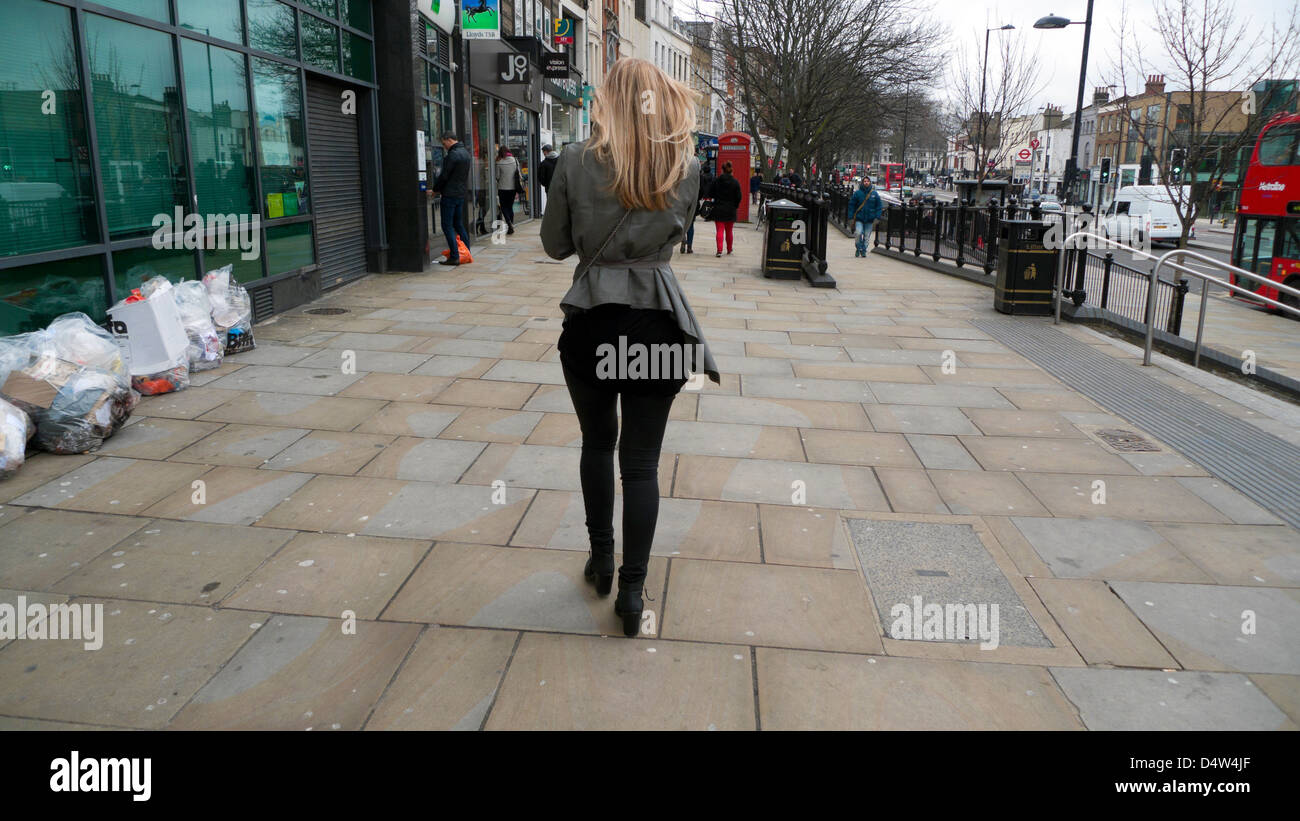car: (1225, 107, 1300, 323), (1102, 180, 1197, 253)
person: (536, 57, 705, 642), (426, 129, 475, 269), (489, 144, 524, 237), (707, 163, 741, 254), (846, 177, 882, 262)
